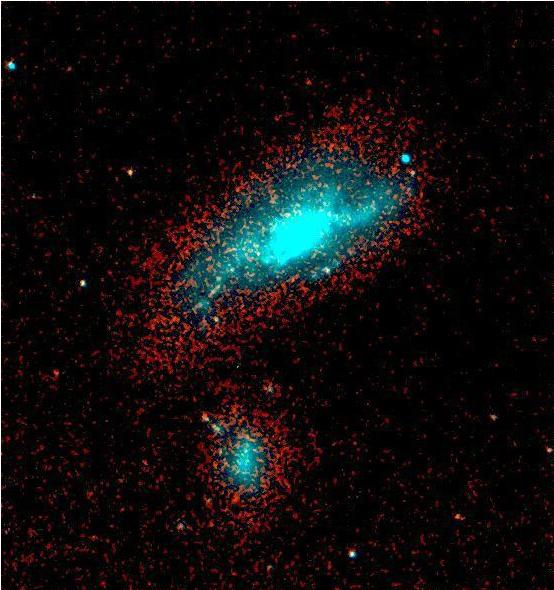star: (293, 65, 323, 95)
